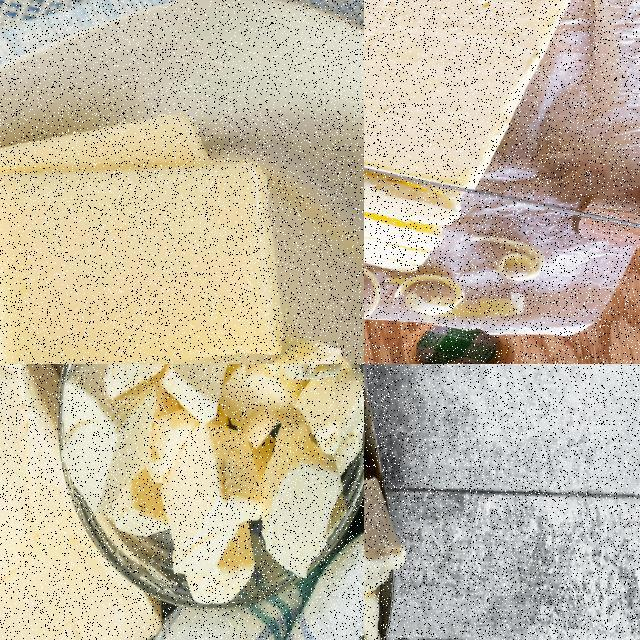Butter: (58, 364, 363, 607), (0, 113, 284, 363), (0, 364, 165, 639), (364, 0, 596, 193), (364, 141, 460, 274)
